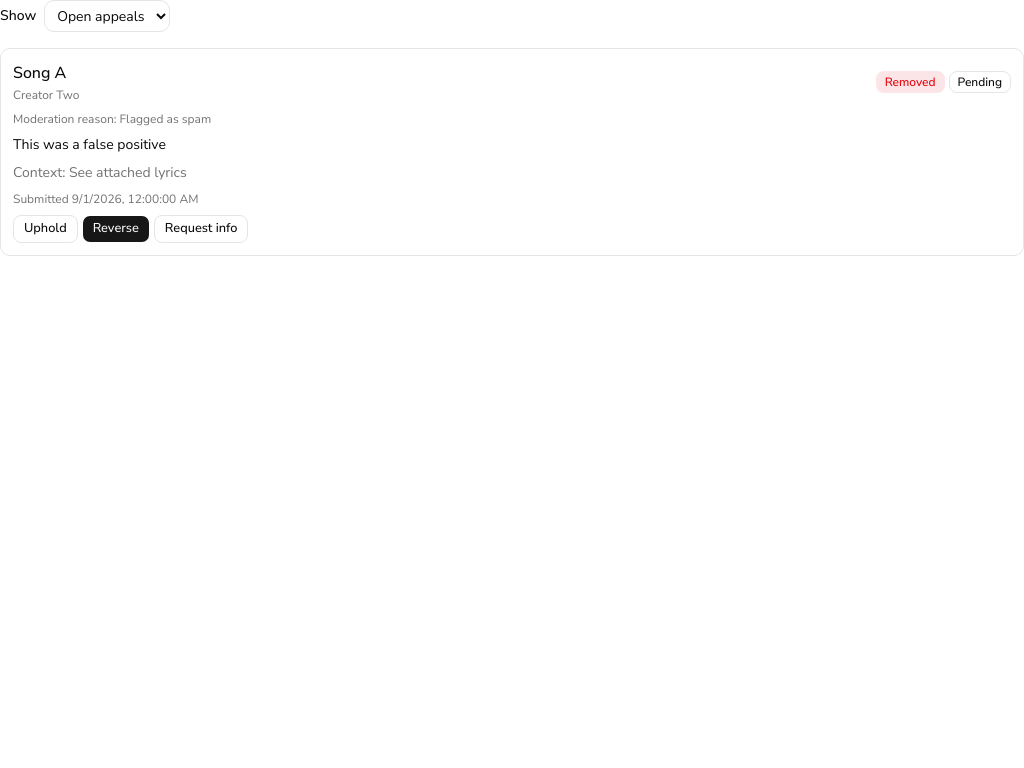
Test case: AppealsPanel › reverse posts the decision with a note
This screenshot has width=1024, height=768.
Click the button "Reverse".
click(116, 229)  # box left=82, top=215, right=150, bottom=243
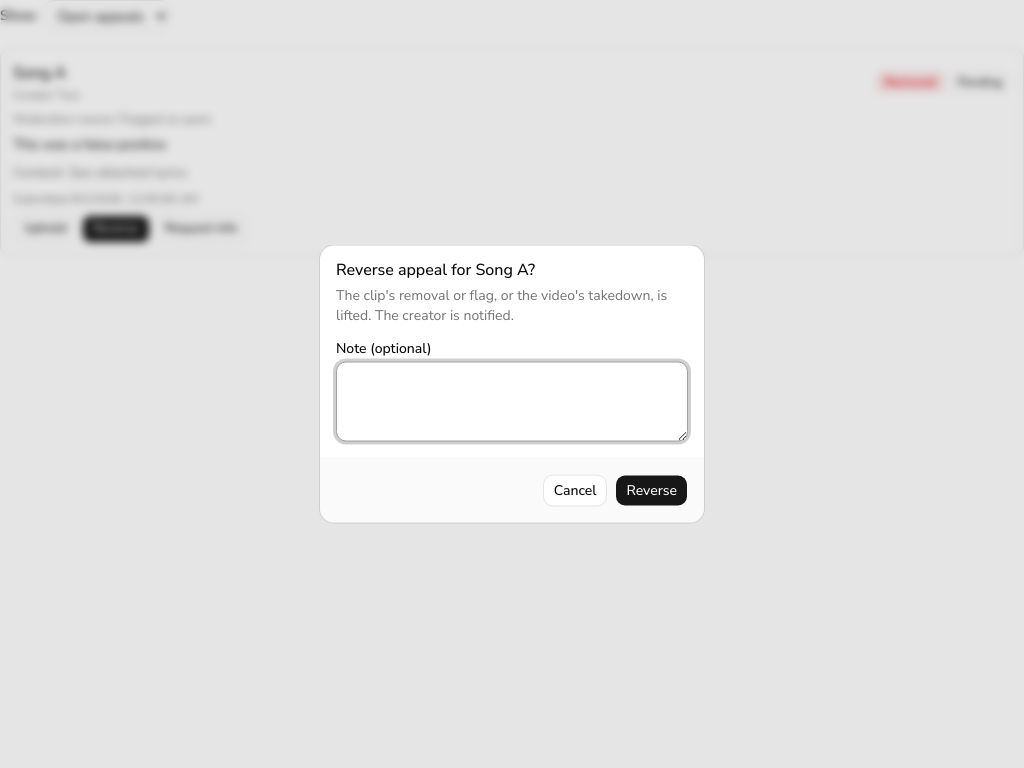
Type "Mistake confirmed" into the text box labelled "Note (optional)".
click(512, 402); type("Mistake confirmed")  # box left=336, top=362, right=688, bottom=442
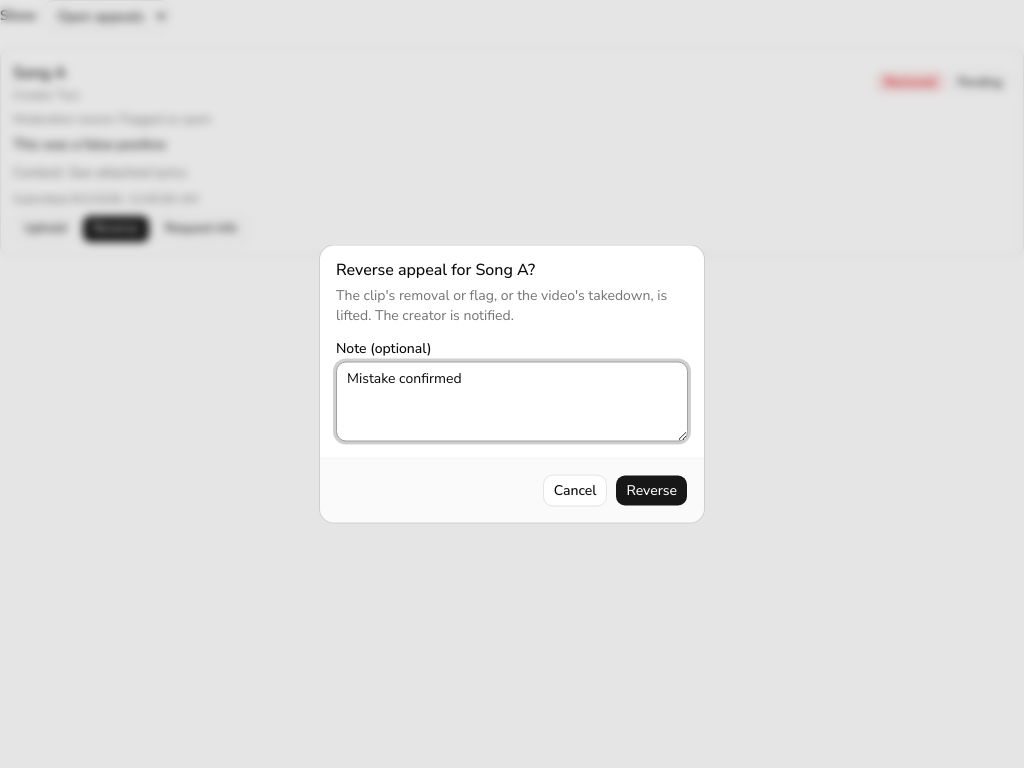
Click the button "Reverse".
click(652, 490)  # box left=616, top=474, right=688, bottom=506
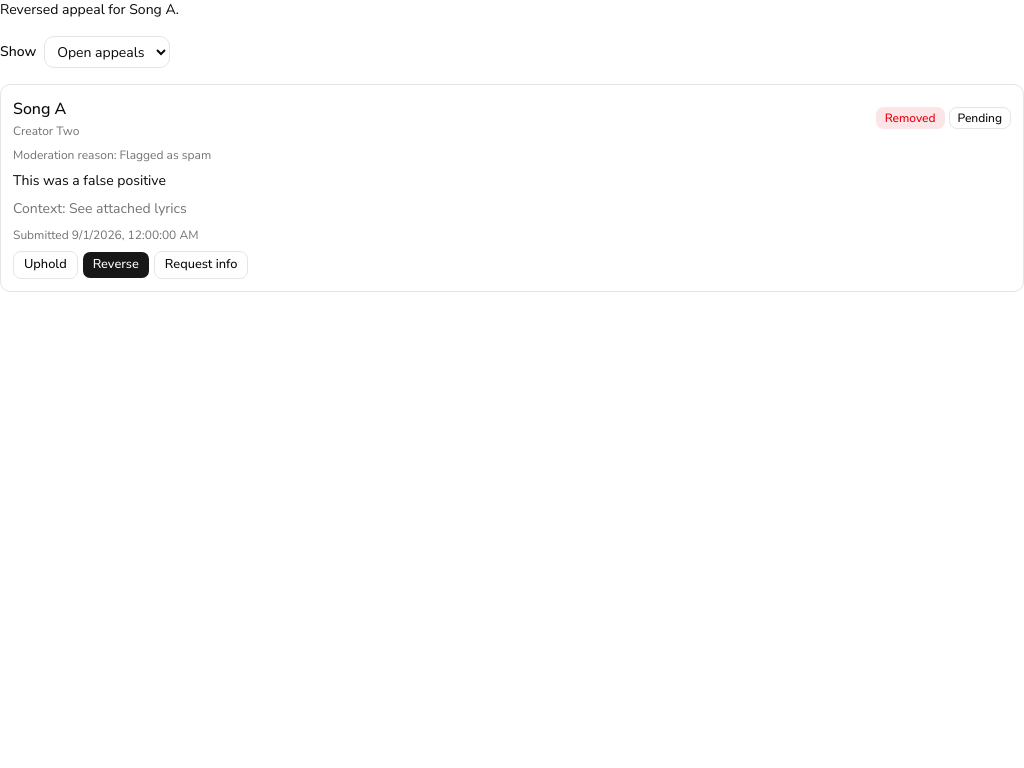
Check: the message reads "Reversed appeal for Song A.", box left=0, top=0, right=179, bottom=19
